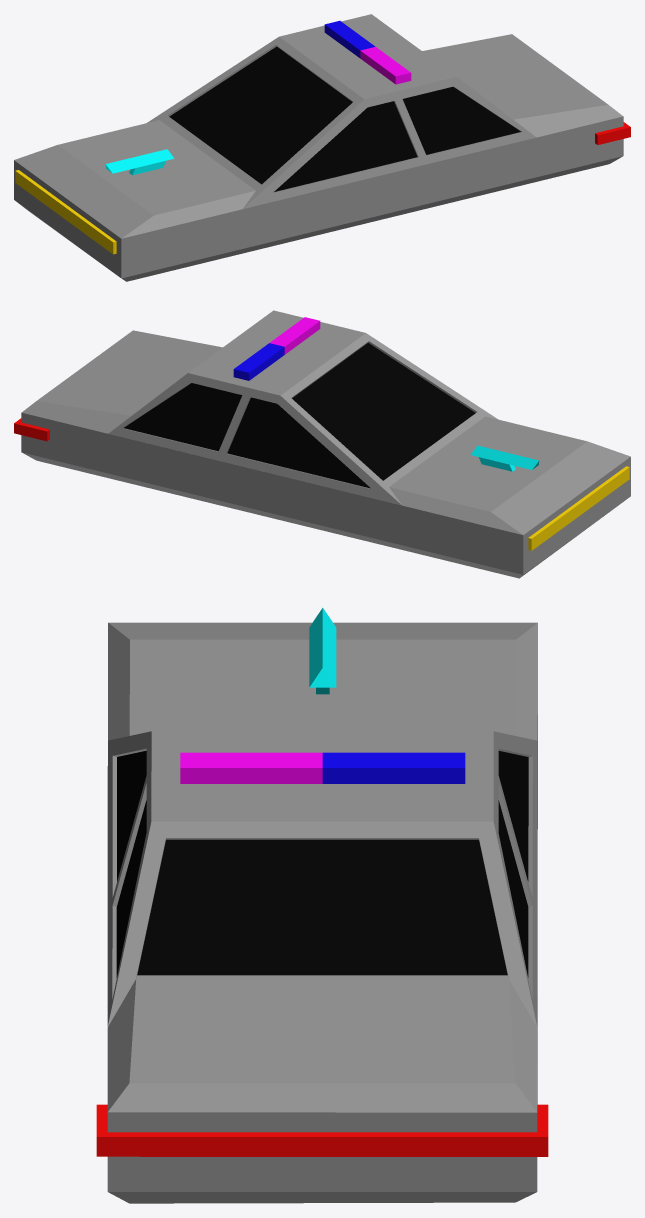
The model's file is CopCar.FBX.
3 views of the same model, one above another, from view 1: azimuth 30°, elevation 25°; view 2: azimuth 150°, elevation 25°; view 3: azimuth 270°, elevation 25° (orthographic). The views are drawn at different scales.
Visible parts, largest first — view 1: CopCar; view 2: CopCar; view 3: CopCar.
Part boxes in pixels (<box>): CopCar: <box>14,14,630,281</box>; CopCar: <box>14,310,630,578</box>; CopCar: <box>96,607,548,1203</box>.
Bounding box in the file's own units: 265 × 63.05 × 101.
